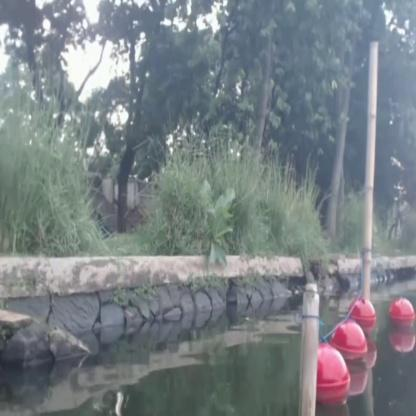red_buoy: (315, 340, 350, 405), (334, 314, 364, 360), (386, 296, 415, 341), (351, 296, 376, 326)
